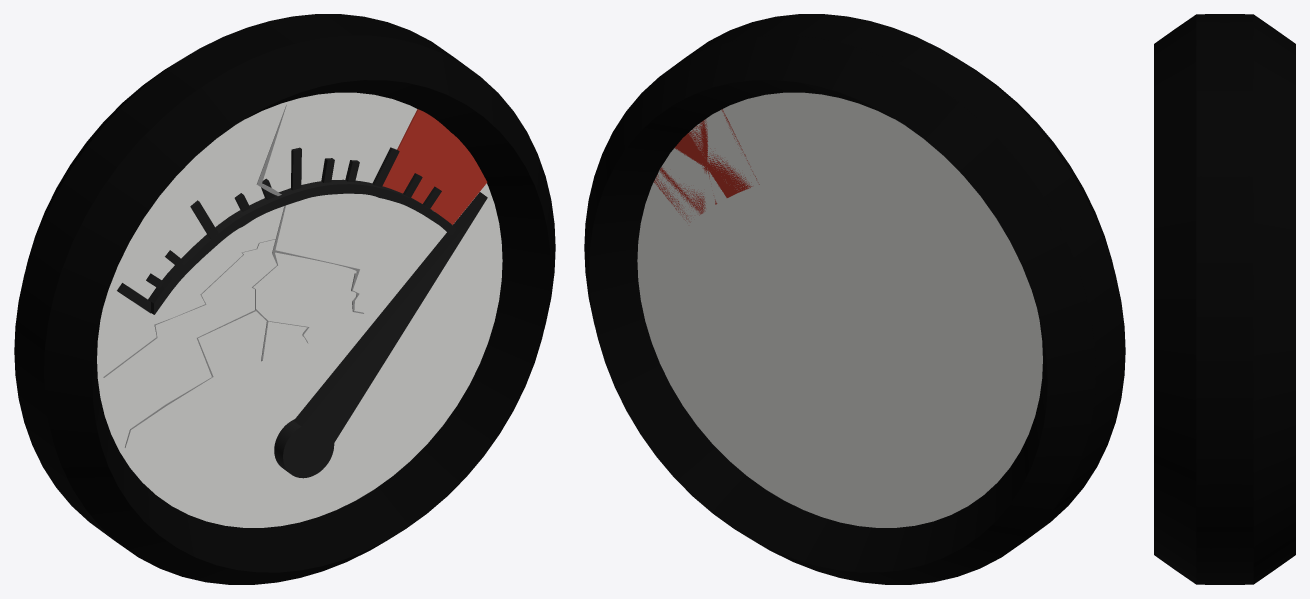
The model's file is gggggg.fbx.
3 views of the same model, side by side, from view 1: azimuth 30°, elevation 25°; view 2: azimuth 150°, elevation 25°; view 3: azimuth 270°, elevation 25° (orthographic). The views are drawn at different scales.
Parts seen in each view (by area): view 1: Body1 (×9); view 2: Body1 (×5); view 3: Body1 (×3).
Part boxes in pixels (x1,y1,x2,y2): Body1 (×9): (14,14,555,584); Body1 (×5): (584,14,1125,584); Body1 (×3): (1154,14,1295,584).
Bounding box in the file's own units: 1 × 1 × 0.2481.
